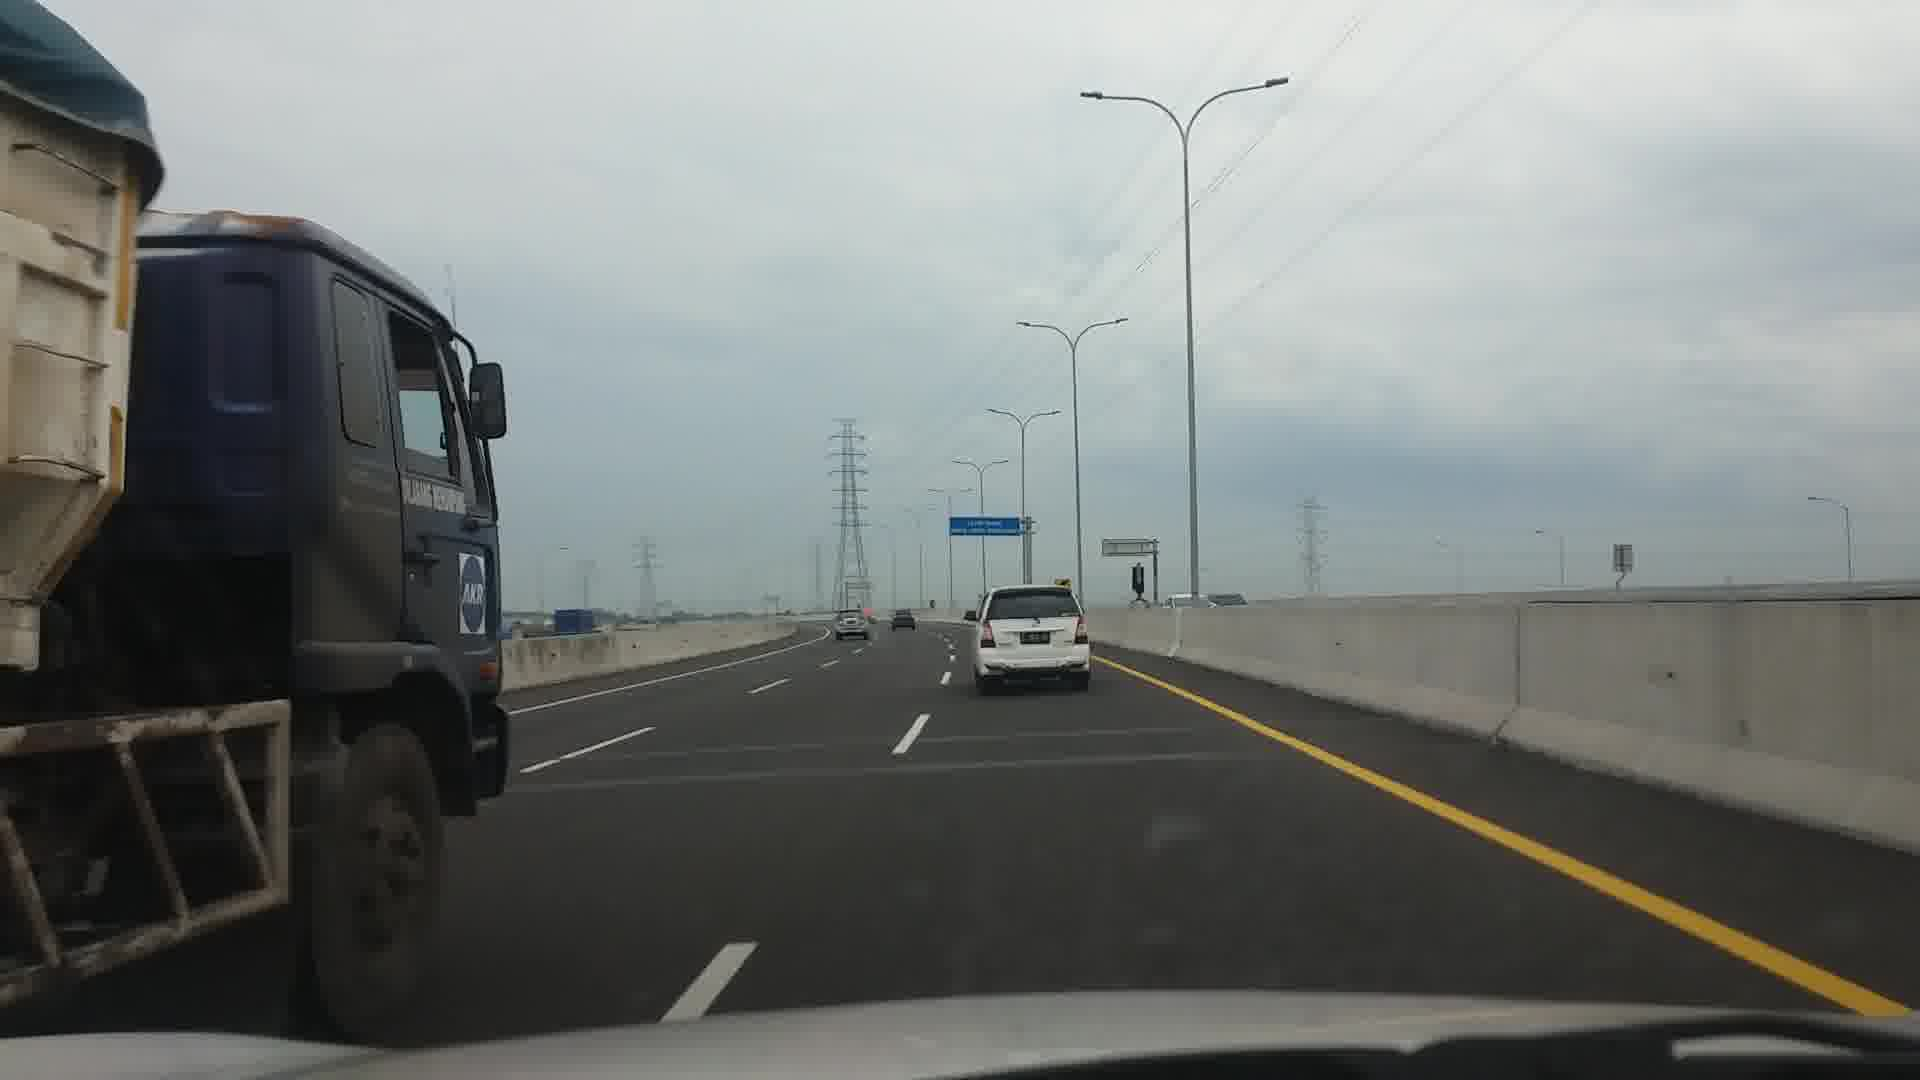plate_positive: (1021, 632, 1050, 644)
